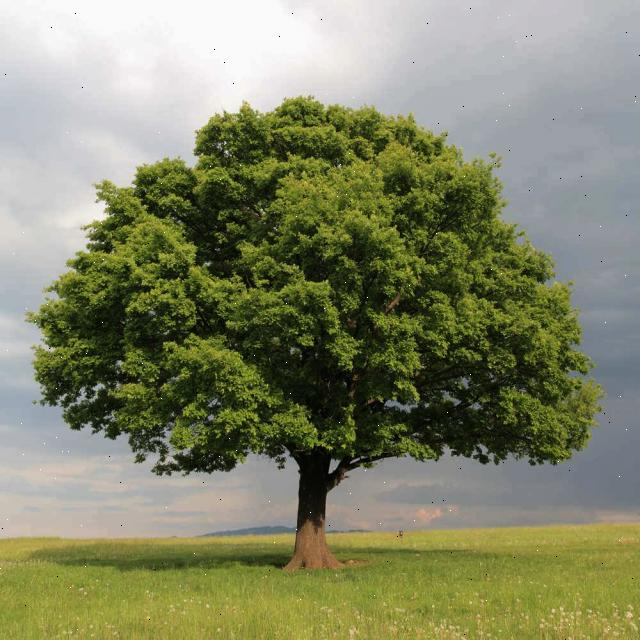Tree: (24, 77, 600, 565)
